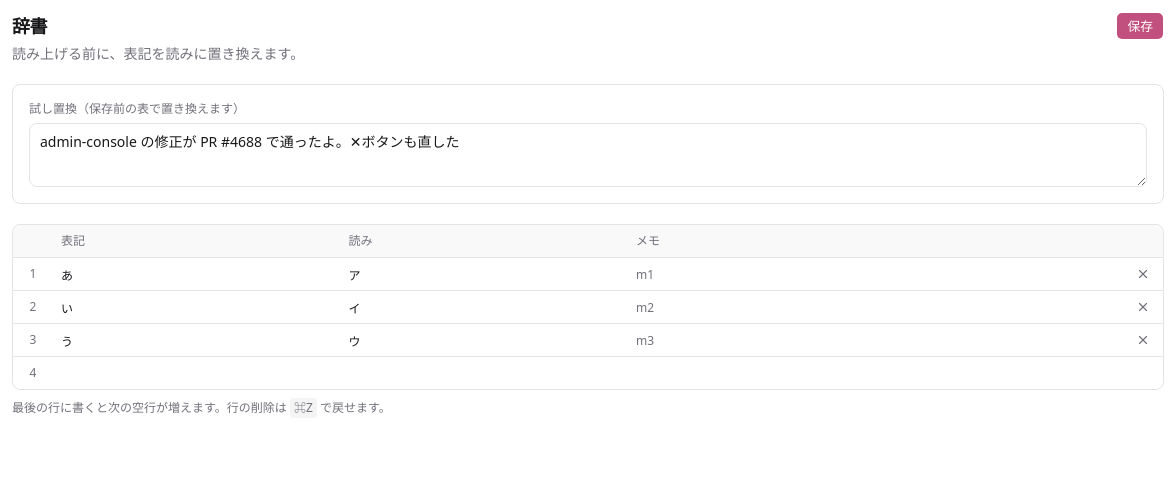
Test: 末尾の空行に入力すると削除ボタンが付き、新しい空行が増える
This screenshot has width=1176, height=492.
Expected: the field showing "あ" is shown, [53, 258, 340, 290]
Expected: the number of buttons named "行を削除" is 3, [1129, 260, 1157, 288]; [1129, 293, 1157, 321]; [1129, 326, 1157, 354]
Type "え" into the field named "4行目の表記" at {"x": 197, "y": 373}, box [53, 357, 340, 389]
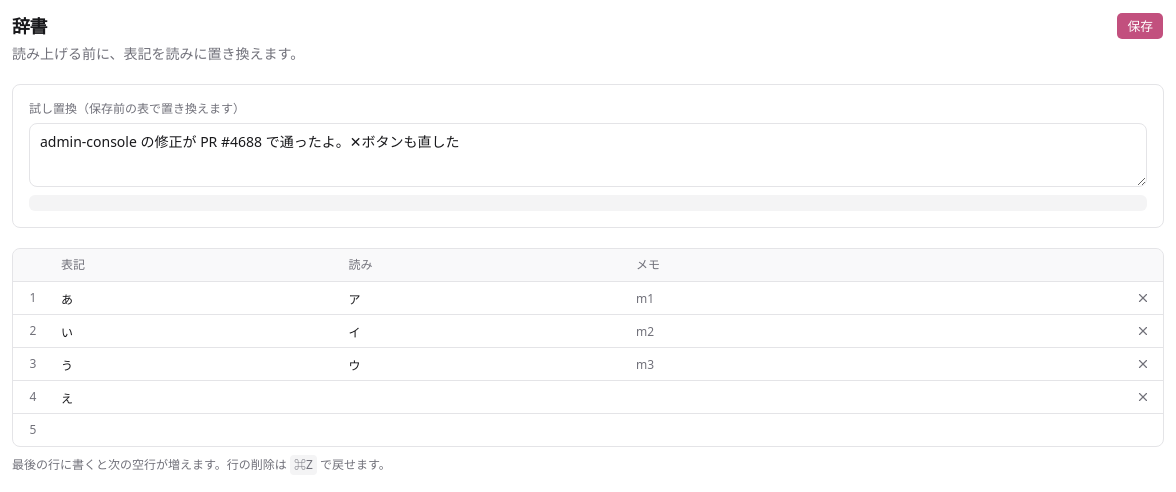
Result: the number of buttons named "行を削除" is 4 at [1129, 284, 1157, 312]; [1129, 317, 1157, 345]; [1129, 350, 1157, 378]; [1129, 383, 1157, 411]
